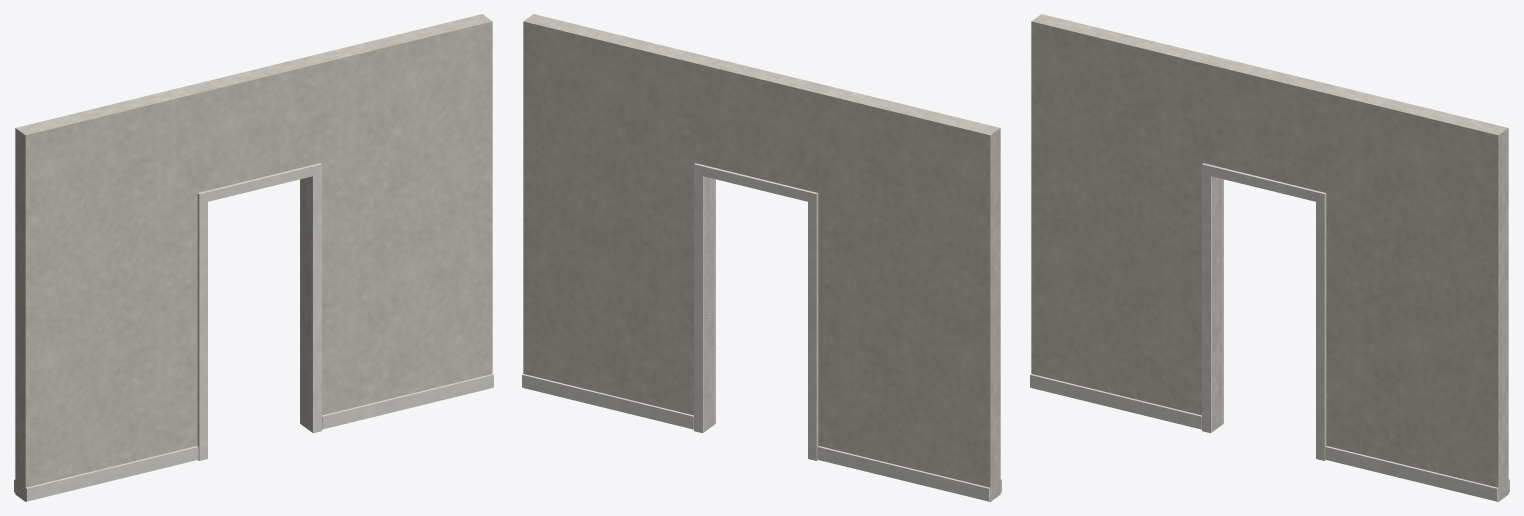
The model's file is PROJECT_Z_Interior_V03_Doorway_4m.glb.
3 views of the same model, side by side, from view 1: azimuth 30°, elevation 25°; view 2: azimuth 150°, elevation 25°; view 3: azimuth 330°, elevation 25° (orthographic).
Visible parts, largest first — view 1: V03_Doorway_4m__Render_DoorwayShell_TrueAperture, V03_Doorway_4m__Render_Architrave_Front_Left, V03_Doorway_4m__Render_Architrave_Front_Right, V03_Doorway_4m__Render_Skirting_Front_Left, V03_Doorway_4m__Render_Skirting_Front_Right, V03_Doorway_4m__Render_JambReveal_Right, V03_Doorway_4m__Render_Architrave_Front_Top; view 2: V03_Doorway_4m__Render_DoorwayShell_TrueAperture, V03_Doorway_4m__Render_Architrave_Back_Right, V03_Doorway_4m__Render_Architrave_Back_Left, V03_Doorway_4m__Render_Skirting_Back_Left, V03_Doorway_4m__Render_Skirting_Back_Right, V03_Doorway_4m__Render_JambReveal_Right, V03_Doorway_4m__Render_Architrave_Back_Top; view 3: V03_Doorway_4m__Render_DoorwayShell_TrueAperture, V03_Doorway_4m__Render_Architrave_Front_Left, V03_Doorway_4m__Render_Architrave_Front_Right, V03_Doorway_4m__Render_Skirting_Front_Right, V03_Doorway_4m__Render_Skirting_Front_Left, V03_Doorway_4m__Render_Architrave_Front_Top.
Boxes of the visible parts, box(x1,y1,x2,y2) form: V03_Doorway_4m__Render_DoorwayShell_TrueAperture: box(15, 14, 492, 501); V03_Doorway_4m__Render_Architrave_Front_Left: box(197, 191, 207, 460); V03_Doorway_4m__Render_Architrave_Front_Right: box(311, 163, 321, 433); V03_Doorway_4m__Render_Skirting_Front_Left: box(25, 446, 198, 501); V03_Doorway_4m__Render_Skirting_Front_Right: box(322, 374, 493, 429); V03_Doorway_4m__Render_JambReveal_Right: box(301, 176, 311, 431); V03_Doorway_4m__Render_Architrave_Front_Top: box(197, 163, 321, 203); V03_Doorway_4m__Render_DoorwayShell_TrueAperture: box(523, 14, 1000, 501); V03_Doorway_4m__Render_Architrave_Back_Right: box(694, 164, 704, 433); V03_Doorway_4m__Render_Architrave_Back_Left: box(808, 191, 818, 460); V03_Doorway_4m__Render_Skirting_Back_Left: box(817, 446, 990, 501); V03_Doorway_4m__Render_Skirting_Back_Right: box(522, 374, 693, 429); V03_Doorway_4m__Render_JambReveal_Right: box(704, 177, 714, 430); V03_Doorway_4m__Render_Architrave_Back_Top: box(694, 163, 818, 202); V03_Doorway_4m__Render_DoorwayShell_TrueAperture: box(1031, 14, 1508, 501); V03_Doorway_4m__Render_Architrave_Front_Left: box(1202, 163, 1212, 433); V03_Doorway_4m__Render_Architrave_Front_Right: box(1316, 191, 1326, 460); V03_Doorway_4m__Render_Skirting_Front_Right: box(1325, 446, 1498, 501); V03_Doorway_4m__Render_Skirting_Front_Left: box(1030, 374, 1201, 429); V03_Doorway_4m__Render_Architrave_Front_Top: box(1202, 164, 1326, 203).
Size of the model in its own units: 4 by 3 by 0.196.
Materials: 2 (2 with a texture image).
